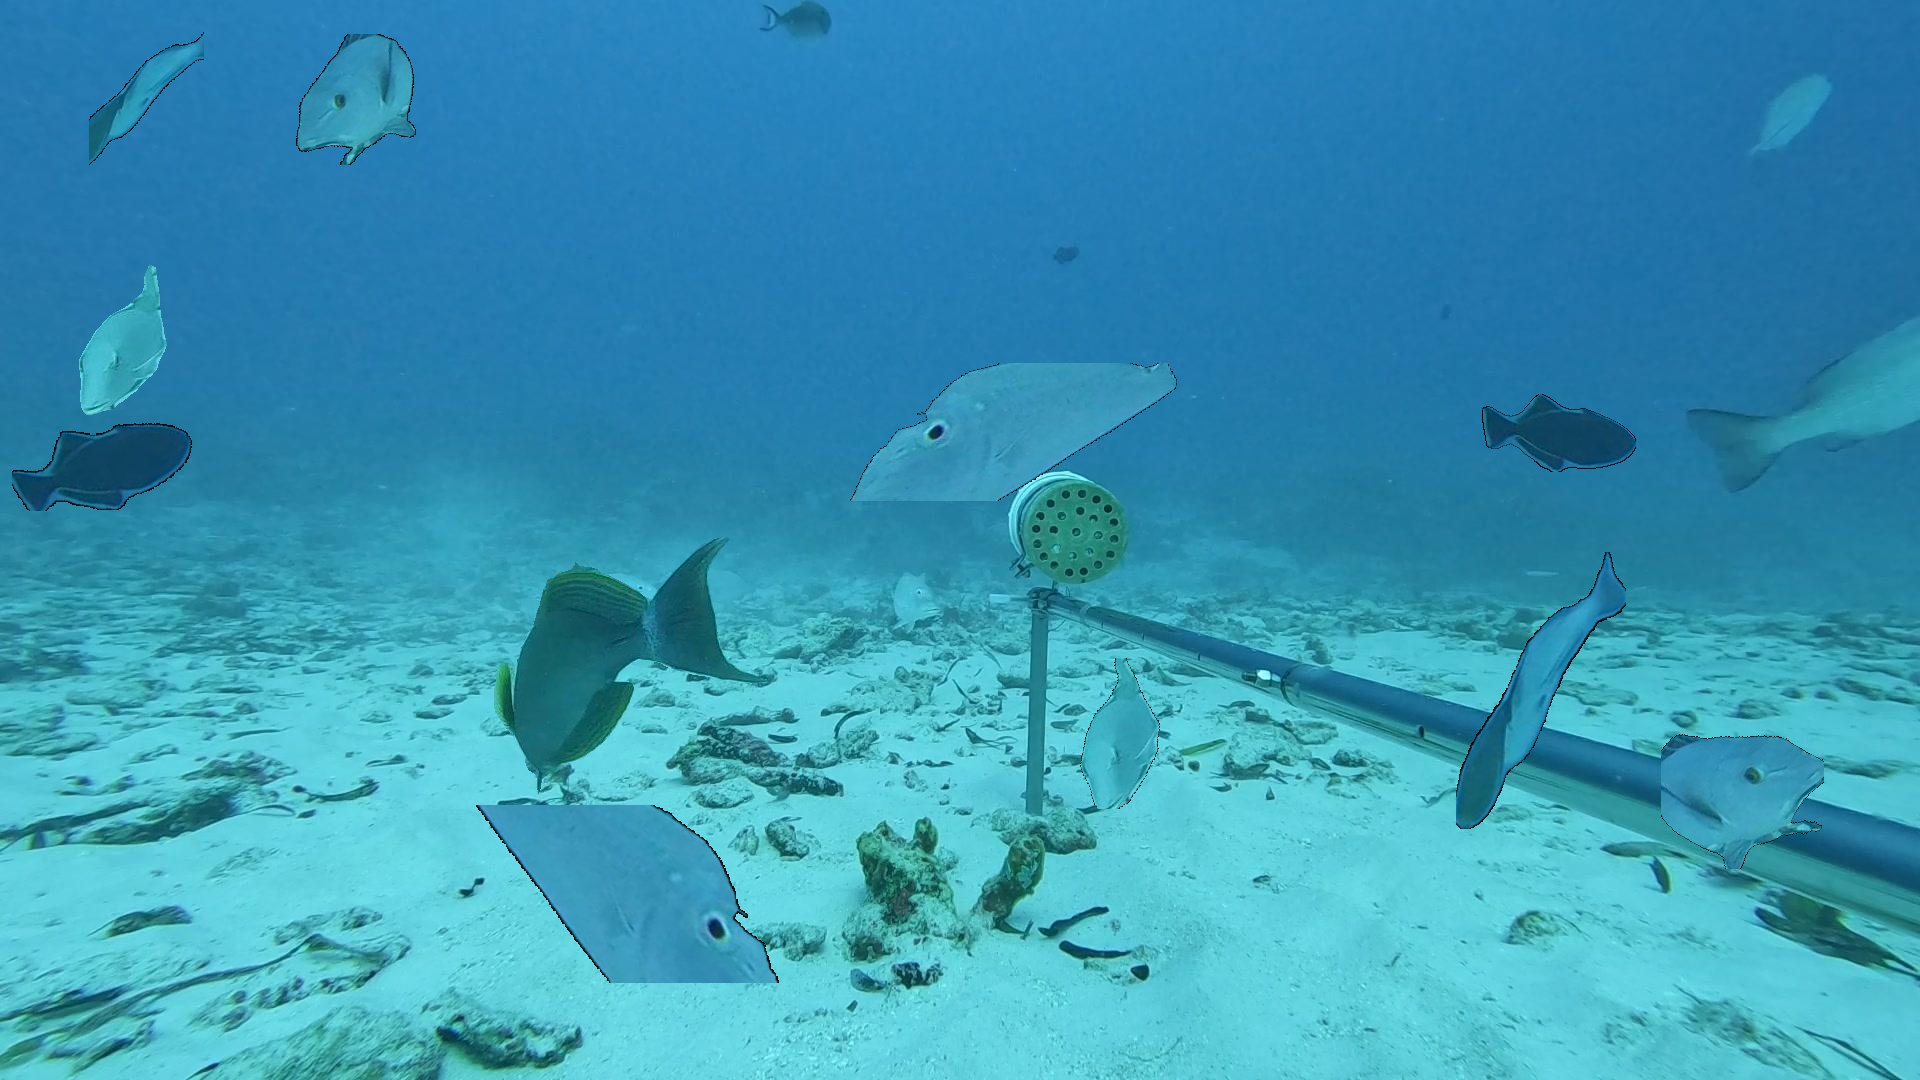fish: (404, 804, 853, 982), (1671, 236, 1920, 542), (495, 535, 767, 794), (835, 363, 1184, 501), (1456, 553, 1626, 829), (1662, 705, 1824, 869), (88, 1, 204, 189), (287, 34, 418, 165), (12, 419, 193, 512), (1727, 51, 1854, 181), (1072, 658, 1160, 808), (79, 265, 167, 415), (1482, 394, 1636, 472), (877, 564, 952, 649), (742, 0, 845, 61)
